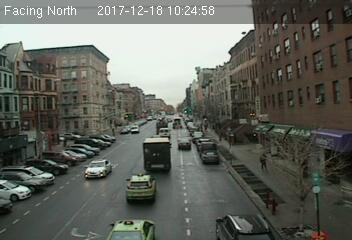car: (215, 212, 274, 240), (105, 218, 156, 240), (126, 172, 155, 199), (85, 160, 111, 178), (201, 150, 221, 164), (178, 138, 191, 150)
pedestrian: (258, 152, 269, 174)
ups: (142, 137, 172, 172)
